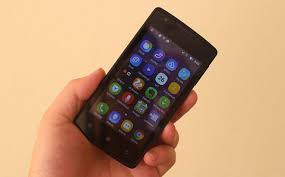lenovo: (72, 1, 218, 171)
